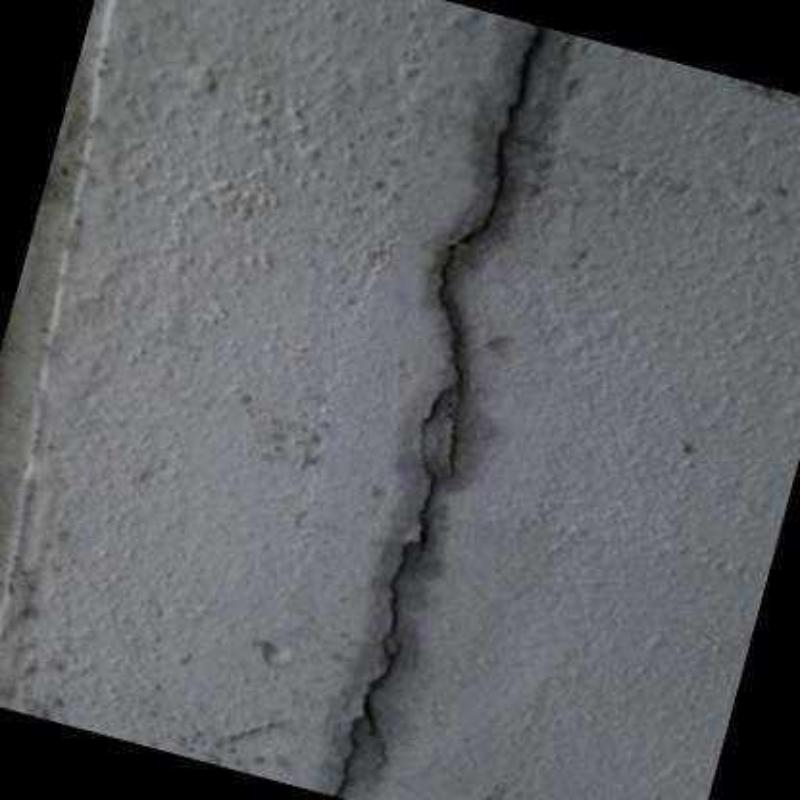crack: (330, 22, 545, 795)
